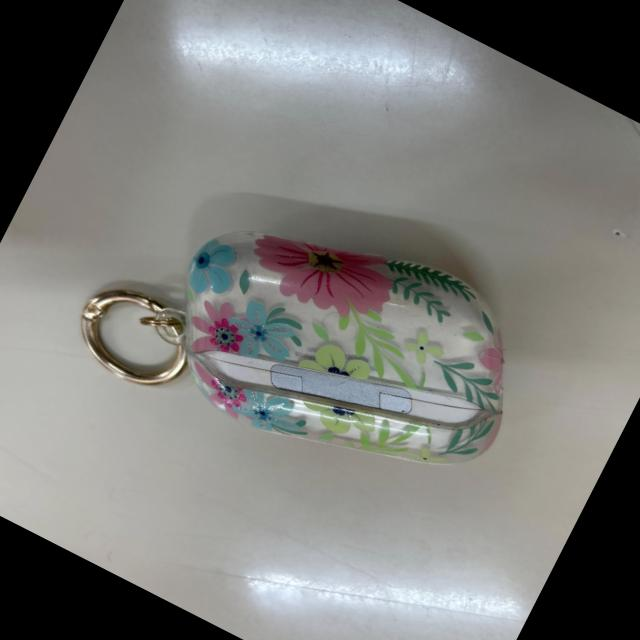inorganic: (66, 136, 546, 540)
